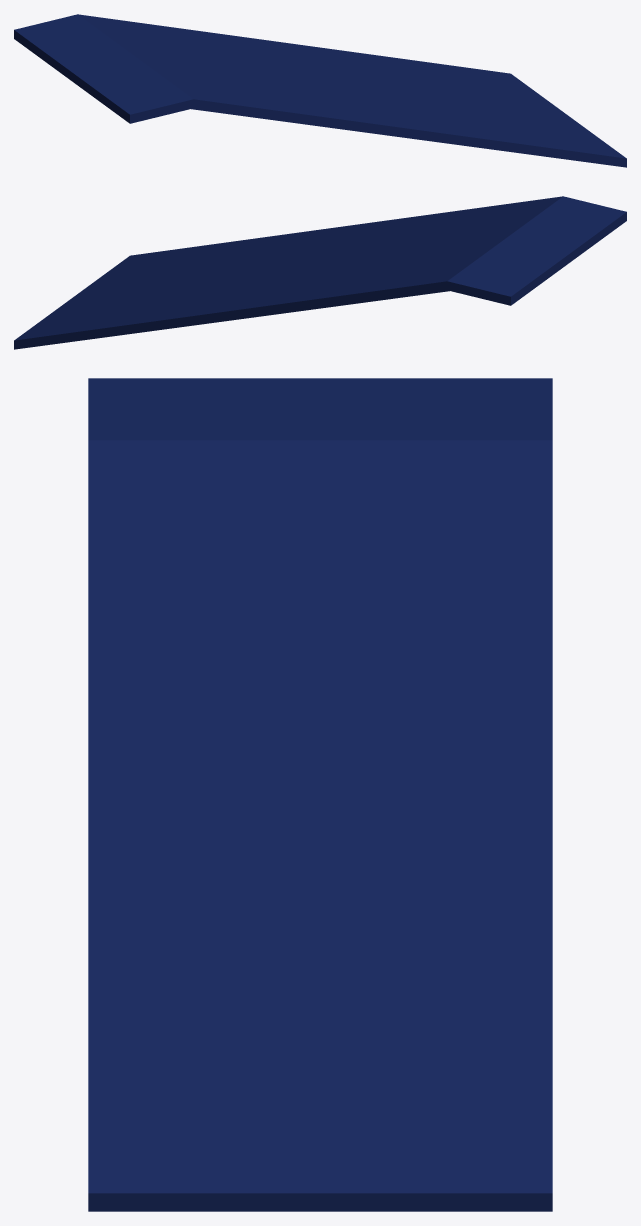
3 views of the same model, one above another, from view 1: azimuth 30°, elevation 25°; view 2: azimuth 150°, elevation 25°; view 3: azimuth 270°, elevation 25° (orthographic). The views are drawn at different scales.
Parts seen in each view (by area): view 1: Cube.013; view 2: Cube.013; view 3: Cube.013.
Boxes of the visible parts, x1,y1,x2,y2 form: Cube.013: [14, 14, 626, 167]; Cube.013: [14, 196, 626, 349]; Cube.013: [88, 378, 552, 1211].
Bounding box in the file's own units: 10.78 × 3.61 × 4.36.
